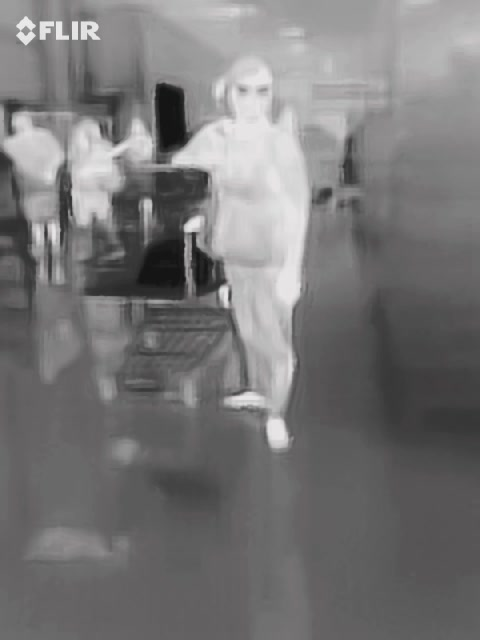head: (229, 56, 272, 119)
